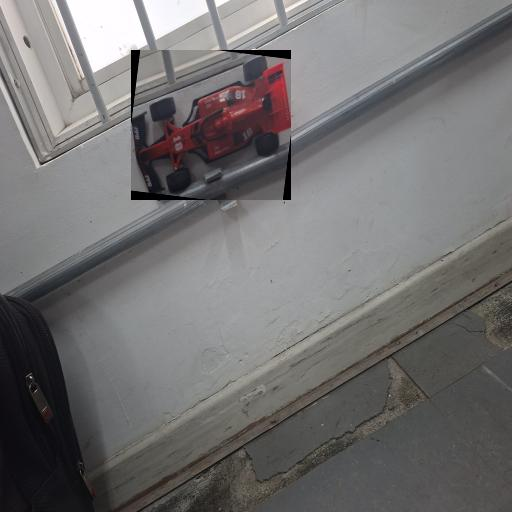carro: (132, 50, 290, 200)
